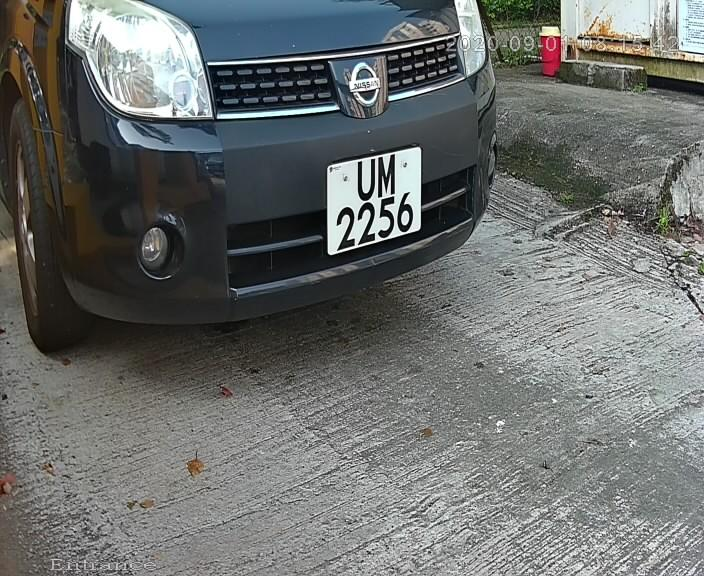Car: (19, 8, 535, 371)
License Plate: (315, 142, 431, 260)
